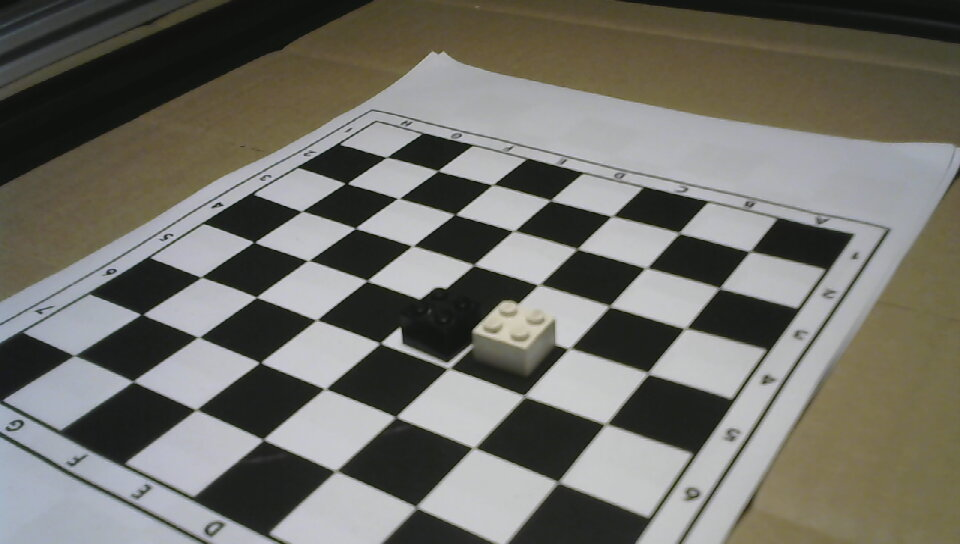bp: (398, 281, 471, 364)
